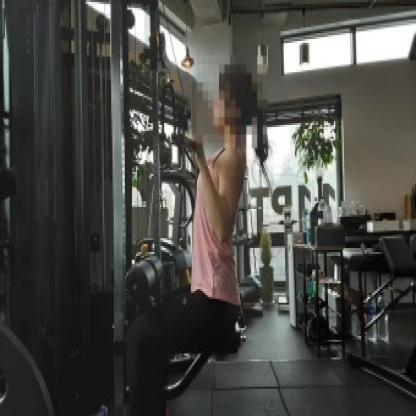Lat Pull Down: (7, 0, 255, 416)
